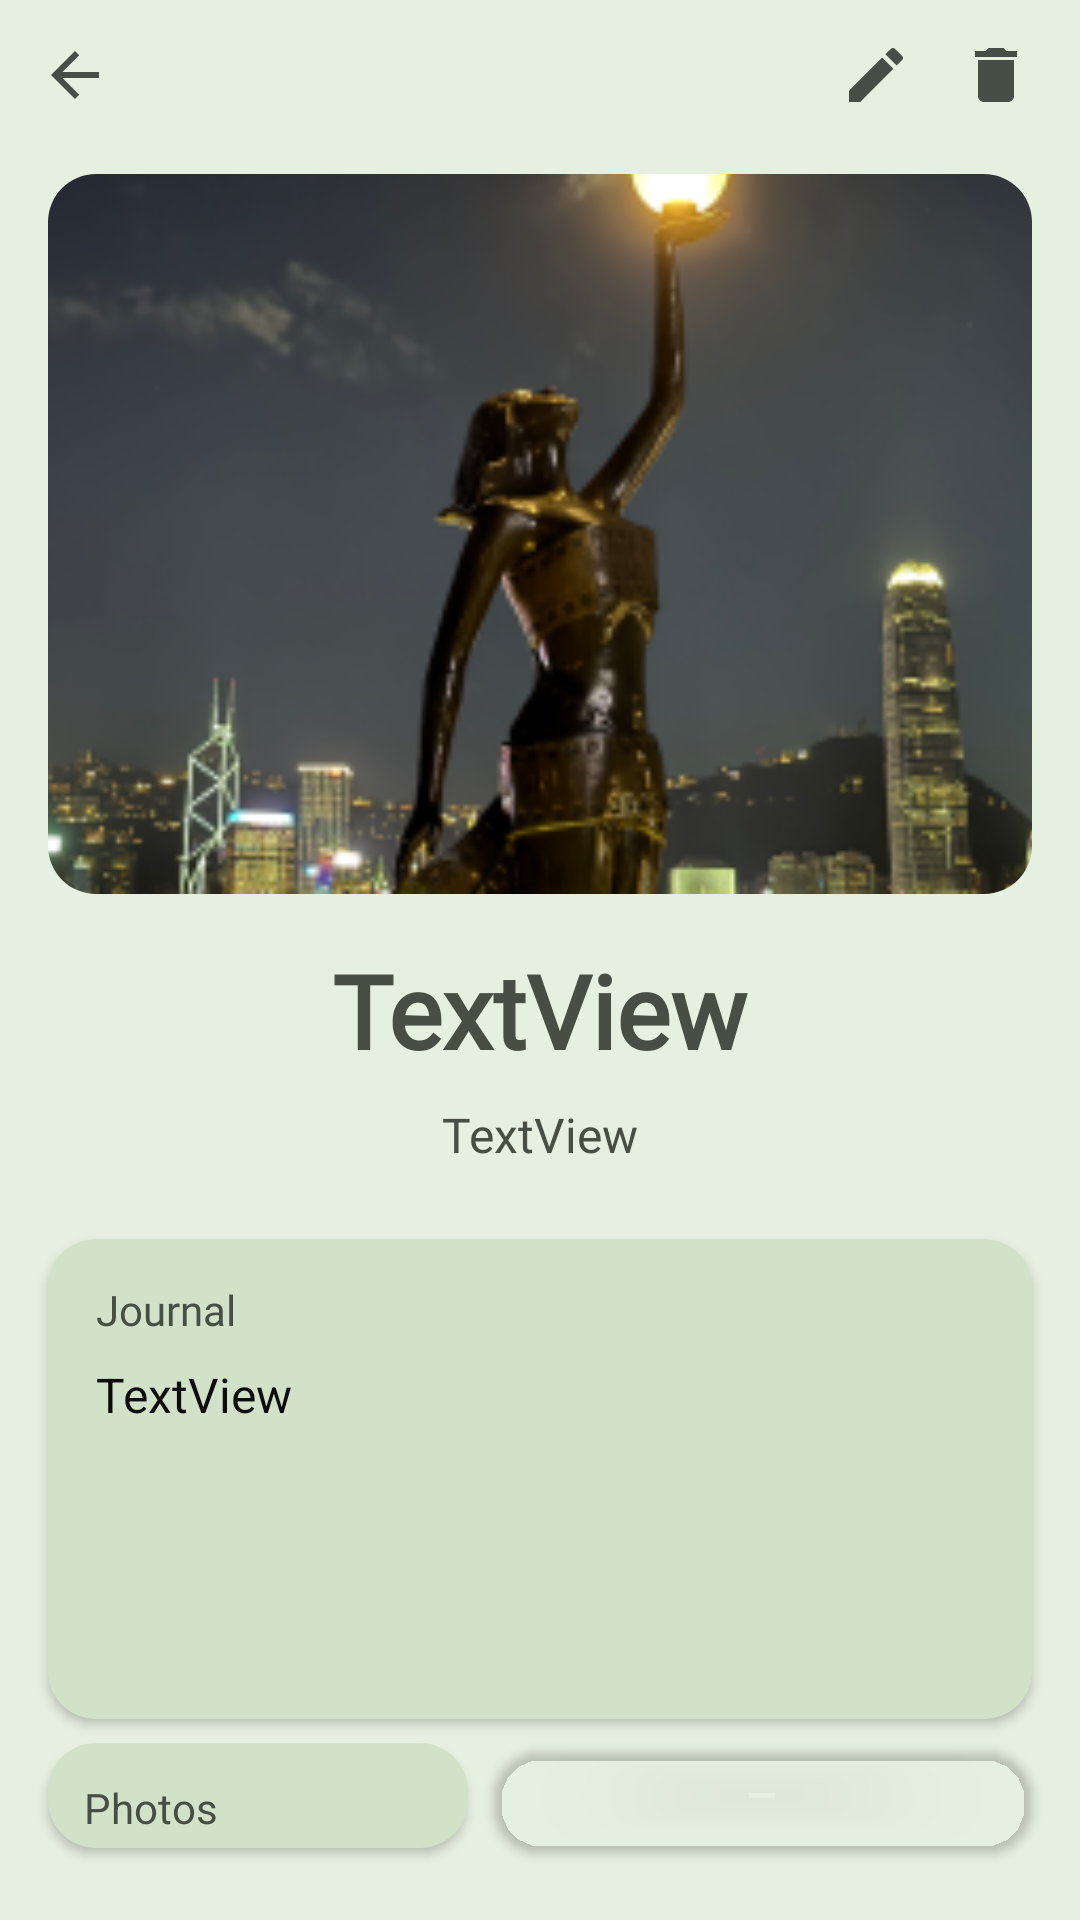

Icon click points for this 1080 x 1920 phone screenshot, format (x=x, y=y):
arrow back: (x=75, y=75)
delete: (x=996, y=75)
edit: (x=876, y=75)
